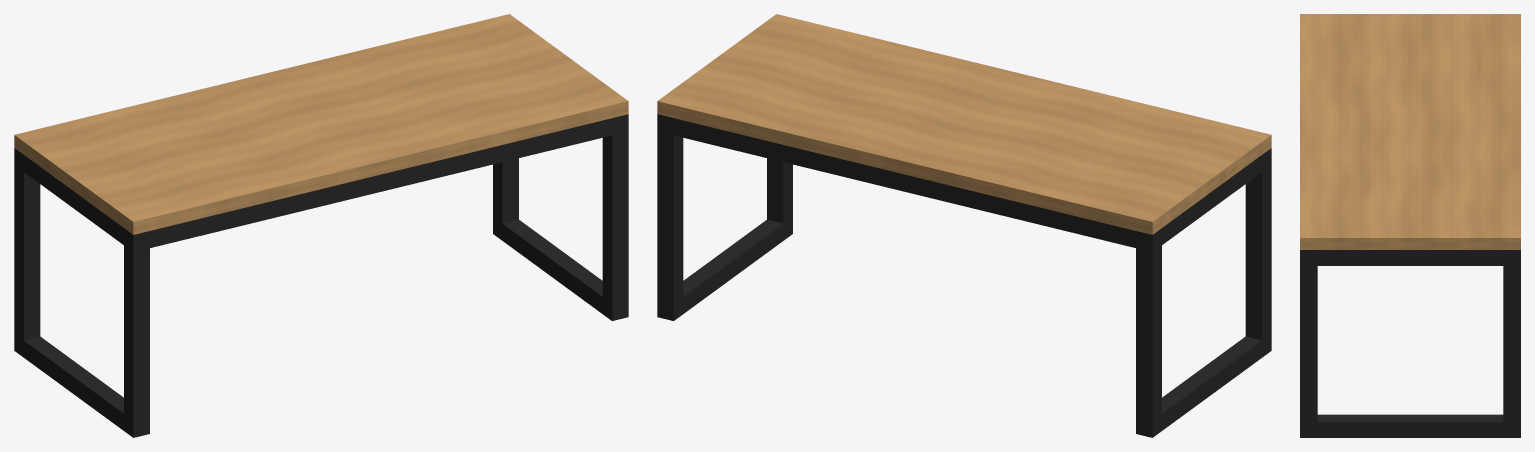
The model's file is mesa-living-nord-miel-negro-4cm.glb.
3 views of the same model, side by side, from view 1: azimuth 30°, elevation 25°; view 2: azimuth 150°, elevation 25°; view 3: azimuth 270°, elevation 25° (orthographic). The views are drawn at different scales.
Parts seen in each view (by area): view 1: Tapa de madera maciza 120 x 50 cm, Pata recta de hierro 4 x 4 cm (×4), Larguero longitudinal superior recto, Travesaño inferior recto (×2), Travesaño superior recto; view 2: Tapa de madera maciza 120 x 50 cm, Pata recta de hierro 4 x 4 cm (×4), Larguero longitudinal superior recto, Travesaño inferior recto (×2), Travesaño superior recto; view 3: Tapa de madera maciza 120 x 50 cm, Pata recta de hierro 4 x 4 cm (×2), Travesaño inferior recto, Travesaño superior recto.
Part boxes in pixels (x1,y1,x2,y2): Tapa de madera maciza 120 x 50 cm: (14,14,628,234); Pata recta de hierro 4 x 4 cm (×4): (14,114,628,437); Larguero longitudinal superior recto: (150,118,612,247); Travesaño inferior recto (×2): (19,219,602,430); Travesaño superior recto: (19,153,128,247); Tapa de madera maciza 120 x 50 cm: (657,14,1271,234); Pata recta de hierro 4 x 4 cm (×4): (657,114,1271,437); Larguero longitudinal superior recto: (673,118,1135,247); Travesaño inferior recto (×2): (679,219,1266,430); Travesaño superior recto: (1162,154,1266,244); Tapa de madera maciza 120 x 50 cm: (1300,14,1520,249); Pata recta de hierro 4 x 4 cm (×2): (1300,250,1520,437); Travesaño inferior recto: (1309,414,1511,437); Travesaño superior recto: (1309,250,1511,265).
Size of the model in its own units: 1.2 by 0.5 by 0.5.
2 materials, 1 textured.
